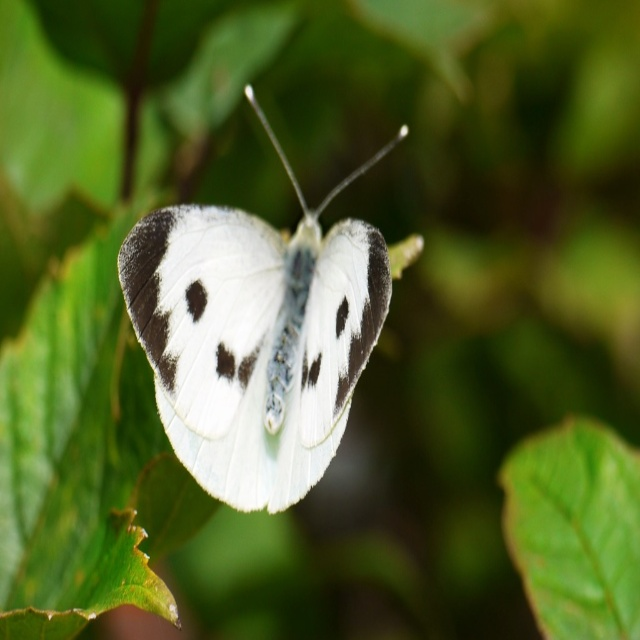Butterfly: (118, 79, 412, 528)
